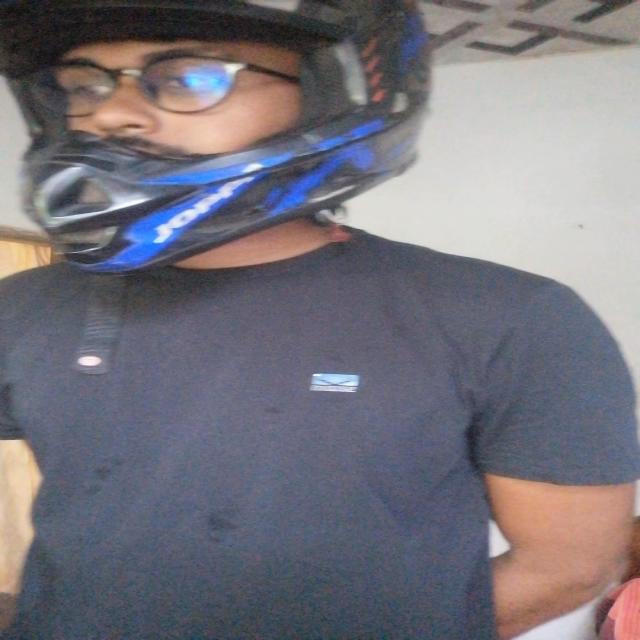Helmet_Wearer: (0, 0, 442, 289)
